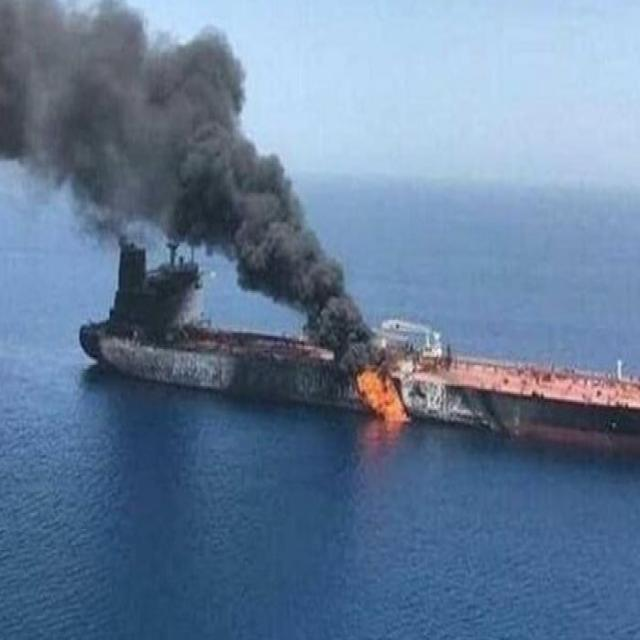cargoship: (85, 228, 386, 416)
